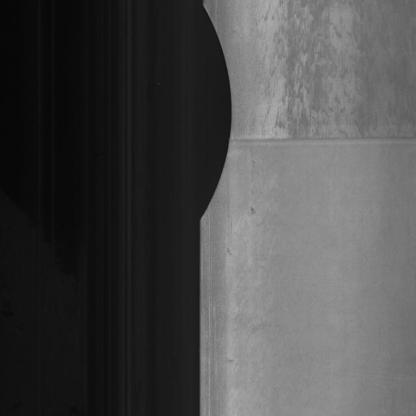crescent_gap: (186, 0, 242, 236)
welding_line: (223, 124, 416, 161)
